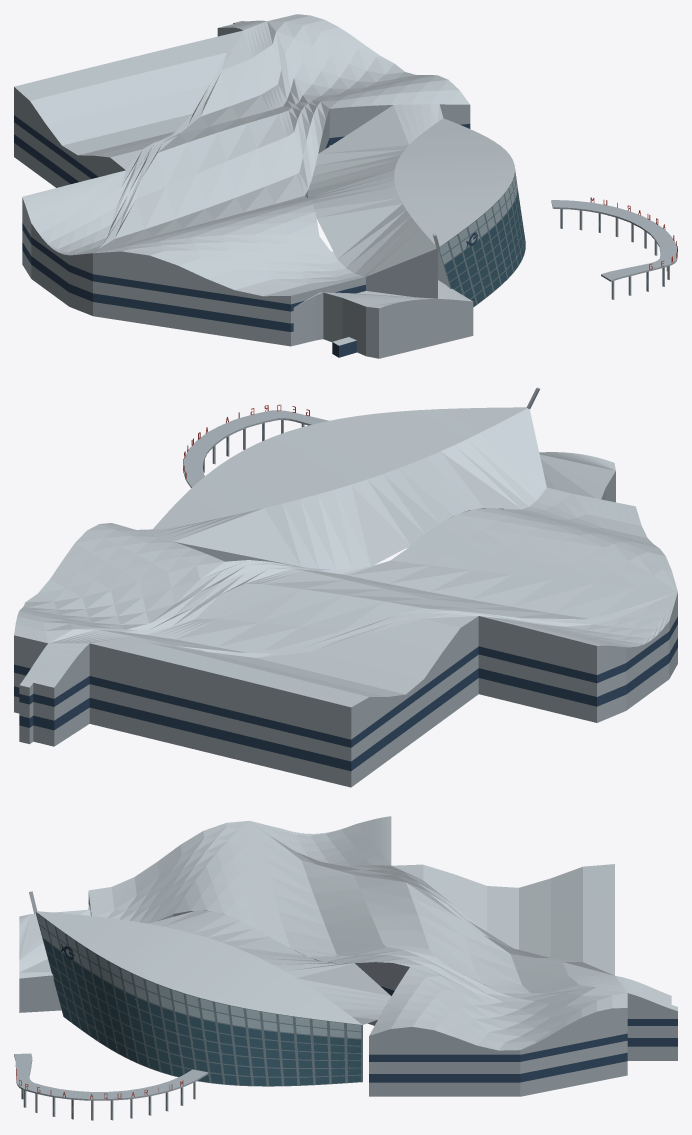
File: georgia-aquarium-far.glb
3 views of the same model, one above another, from view 1: azimuth 30°, elevation 25°; view 2: azimuth 150°, elevation 25°; view 3: azimuth 270°, elevation 25° (orthographic). The views are drawn at different scales.
Parts seen in each view (by area): view 1: georgia-aquarium-0-roof, georgia-aquarium-0-silver, georgia-aquarium-0-blue, georgia-aquarium-0-glass, georgia-aquarium-0-frame, georgia-aquarium-0-glow; view 2: georgia-aquarium-0-roof, georgia-aquarium-0-silver, georgia-aquarium-0-blue; view 3: georgia-aquarium-0-roof, georgia-aquarium-0-silver, georgia-aquarium-0-glass, georgia-aquarium-0-frame, georgia-aquarium-0-blue, georgia-aquarium-0-glow.
Boxes of the visible parts, bbox=[...] form: georgia-aquarium-0-roof: bbox=[14, 14, 514, 345]; georgia-aquarium-0-silver: bbox=[14, 23, 677, 358]; georgia-aquarium-0-blue: bbox=[14, 115, 477, 357]; georgia-aquarium-0-glass: bbox=[444, 188, 525, 306]; georgia-aquarium-0-frame: bbox=[439, 171, 525, 307]; georgia-aquarium-0-glow: bbox=[440, 169, 517, 264]; georgia-aquarium-0-roof: bbox=[14, 407, 677, 707]; georgia-aquarium-0-silver: bbox=[14, 387, 677, 787]; georgia-aquarium-0-blue: bbox=[14, 616, 677, 771]; georgia-aquarium-0-roof: bbox=[19, 816, 677, 1050]; georgia-aquarium-0-silver: bbox=[14, 891, 677, 1120]; georgia-aquarium-0-glass: bbox=[43, 939, 361, 1085]; georgia-aquarium-0-frame: bbox=[36, 912, 362, 1086]; georgia-aquarium-0-blue: bbox=[61, 900, 677, 1082]; georgia-aquarium-0-glow: bbox=[36, 913, 361, 1038].
Size of the model in its own units: 183 by 37 by 211.
